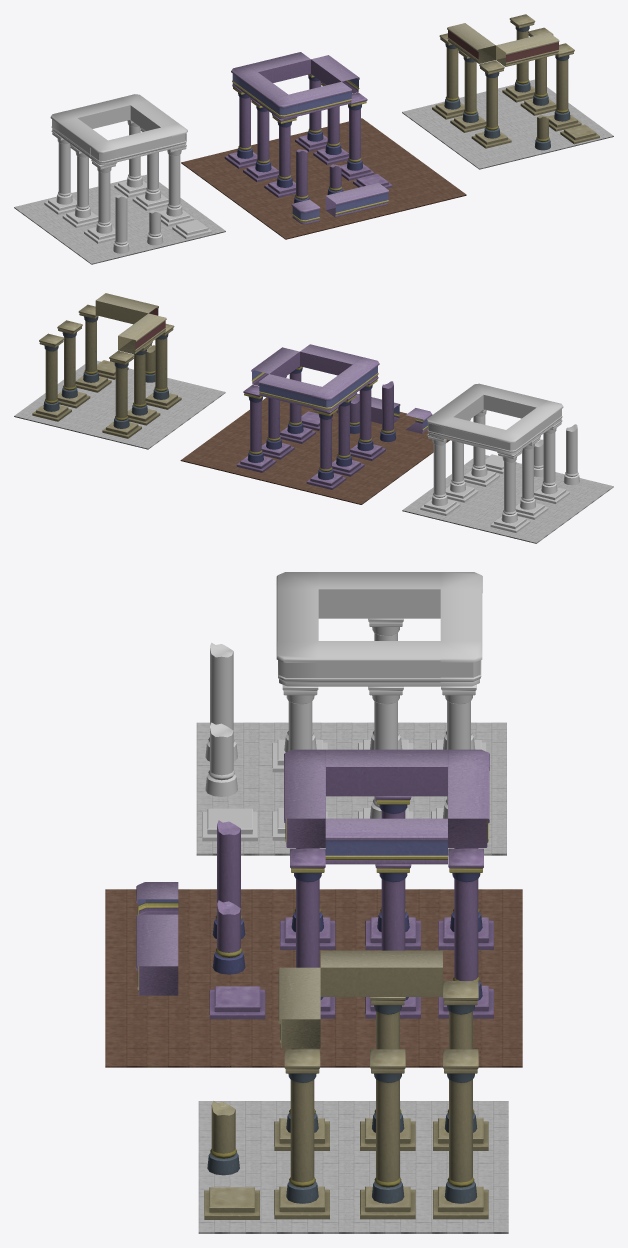
File: Vigas1_edit_for_FBX.fbx
3 views of the same model, one above another, from view 1: azimuth 30°, elevation 25°; view 2: azimuth 150°, elevation 25°; view 3: azimuth 270°, elevation 25° (orthographic). The views are drawn at different scales.
Parts seen in each view (by area): view 1: Greek_floor018, Greek_floor010, Greek_floor019, Greek_Pillar_Up_LOD020, Greek_Pillar_Up_LOD010, Greek_Pillar_Up_LOD014, Greek_Pillar_Up_LOD018, Greek_Pillar_Up_LOD017, Greek_Pillar_Up_LOD011, Greek_Pillar_Up_LOD013, Greek_Pillar_LOD014, Greek_Pillar_Up_LOD012 (+38 smaller); view 2: Greek_floor018, Greek_floor010, Greek_floor019, Greek_Pillar_Up_LOD013, Greek_Pillar_Up_LOD017, Greek_Pillar_Up_LOD010, Greek_Pillar_Up_LOD018, Greek_Pillar_Up_LOD011, Greek_Pillar_Up_LOD014, Greek_Pillar_LOD016, Greek_Pillar_LOD019, Greek_Pillar_LOD018 (+41 smaller); view 3: Greek_floor018, Greek_floor010, Greek_floor019, Greek_Pillar_Up_LOD015, Greek_Pillar_Up_LOD019, Greek_Pillar_Up_LOD011, Greek_Pillar_Up_LOD012, Greek_Pillar_Up_LOD016, Greek_Pillar_LOD017, Greek_Pillar_LOD019, Greek_Pillar_LOD018, Greek_Pillar_LOD025 (+33 smaller).
Part boxes in pixels (left/top/right/bottom): Greek_floor018: left=181, top=118, right=466, bottom=239; Greek_floor010: left=402, top=79, right=613, bottom=169; Greek_floor019: left=14, top=174, right=225, bottom=264; Greek_Pillar_Up_LOD020: left=325, top=183, right=388, bottom=217; Greek_Pillar_Up_LOD010: left=496, top=32, right=559, bottom=66; Greek_Pillar_Up_LOD014: left=289, top=81, right=351, bottom=116; Greek_Pillar_Up_LOD018: left=108, top=127, right=171, bottom=161; Greek_Pillar_Up_LOD017: left=67, top=98, right=130, bottom=128; Greek_Pillar_Up_LOD011: left=447, top=23, right=495, bottom=63; Greek_Pillar_Up_LOD013: left=248, top=52, right=310, bottom=82; Greek_Pillar_LOD014: left=479, top=60, right=504, bottom=138; Greek_Pillar_Up_LOD012: left=311, top=55, right=359, bottom=93; Greek_floor018: left=180, top=397, right=449, bottom=504; Greek_floor010: left=14, top=360, right=225, bottom=449; Greek_floor019: left=402, top=455, right=613, bottom=543; Greek_Pillar_Up_LOD013: left=259, top=374, right=321, bottom=408; Greek_Pillar_Up_LOD017: left=442, top=417, right=505, bottom=451; Greek_Pillar_Up_LOD010: left=95, top=293, right=158, bottom=324; Greek_Pillar_Up_LOD018: left=483, top=387, right=546, bottom=418; Greek_Pillar_Up_LOD011: left=118, top=313, right=166, bottom=354; Greek_Pillar_Up_LOD014: left=300, top=344, right=362, bottom=375; Greek_Pillar_LOD016: left=109, top=350, right=134, bottom=428; Greek_Pillar_LOD019: left=39, top=333, right=64, bottom=411; Greek_Pillar_LOD018: left=57, top=320, right=82, bottom=398; Greek_floor018: left=105, top=889, right=522, bottom=1067; Greek_floor010: left=198, top=1101, right=508, bottom=1233; Greek_floor019: left=196, top=722, right=506, bottom=855; Greek_Pillar_Up_LOD015: left=326, top=749, right=448, bottom=796; Greek_Pillar_Up_LOD019: left=318, top=572, right=440, bottom=618; Greek_Pillar_Up_LOD011: left=320, top=950, right=442, bottom=996; Greek_Pillar_Up_LOD012: left=325, top=818, right=447, bottom=864; Greek_Pillar_Up_LOD016: left=318, top=641, right=440, bottom=686; Greek_Pillar_LOD017: left=284, top=1049, right=320, bottom=1203; Greek_Pillar_LOD019: left=443, top=1049, right=478, bottom=1203; Greek_Pillar_LOD018: left=370, top=1049, right=405, bottom=1203; Greek_Pillar_LOD025: left=448, top=848, right=483, bottom=1000.
Size of what is drawn, in the model's own units: 1758 by 291 by 609.
